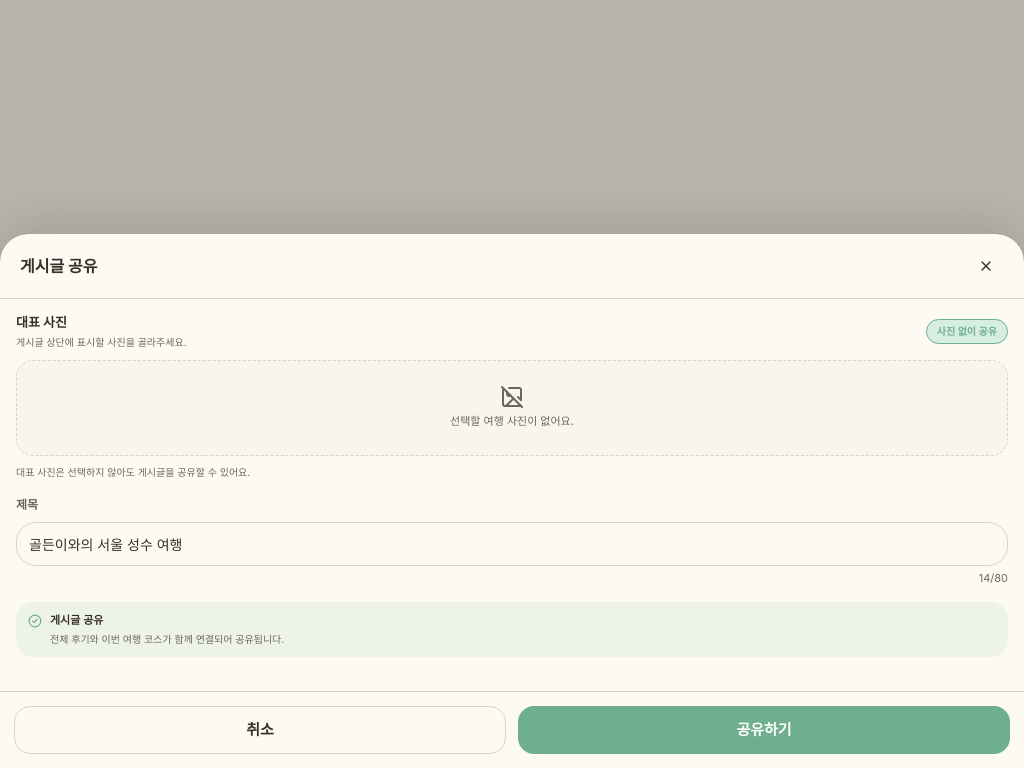
Test: PostShareSheet › slides down before closing from the X button
Later steps or results of the test are not shown.
Click the button named "공유 창 닫기" at x=986, y=266, box x1=968 y1=248 x2=1004 y2=284
(page scrolled)
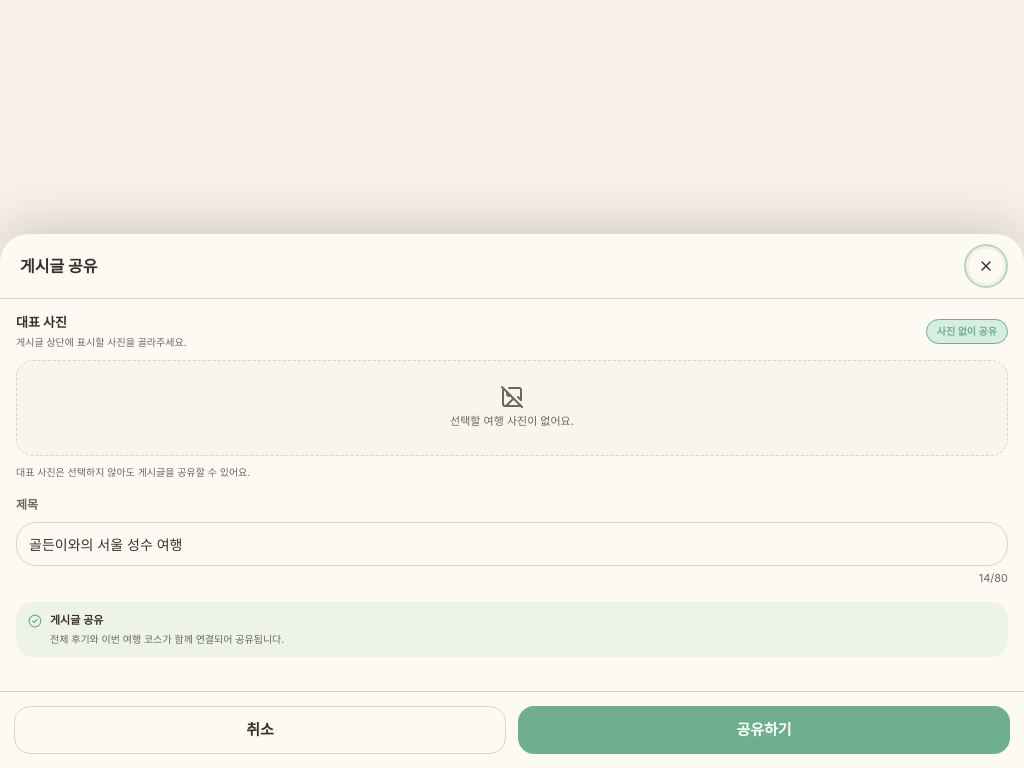
Expected: the dialog has class "translate-y-full" "duration-[320ms]"
